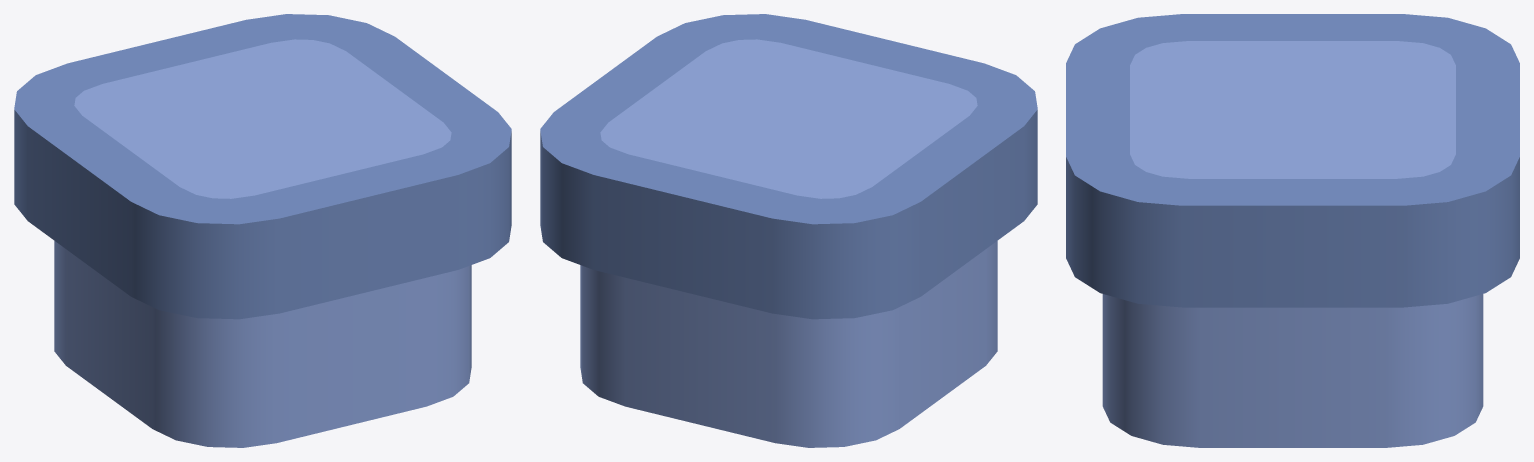
Rendered from food_pedestal.fbx.
3 views of the same model, side by side, from view 1: azimuth 30°, elevation 25°; view 2: azimuth 150°, elevation 25°; view 3: azimuth 270°, elevation 25° (orthographic). The views are drawn at different scales.
Parts seen in each view (by area): view 1: food_pedestal; view 2: food_pedestal; view 3: food_pedestal.
Boxes of the visible parts, left/top/right/bottom form: food_pedestal: left=14, top=14, right=511, bottom=447; food_pedestal: left=540, top=14, right=1037, bottom=447; food_pedestal: left=1066, top=14, right=1519, bottom=447.
Bounding box in the file's own units: 293 × 184 × 293.
